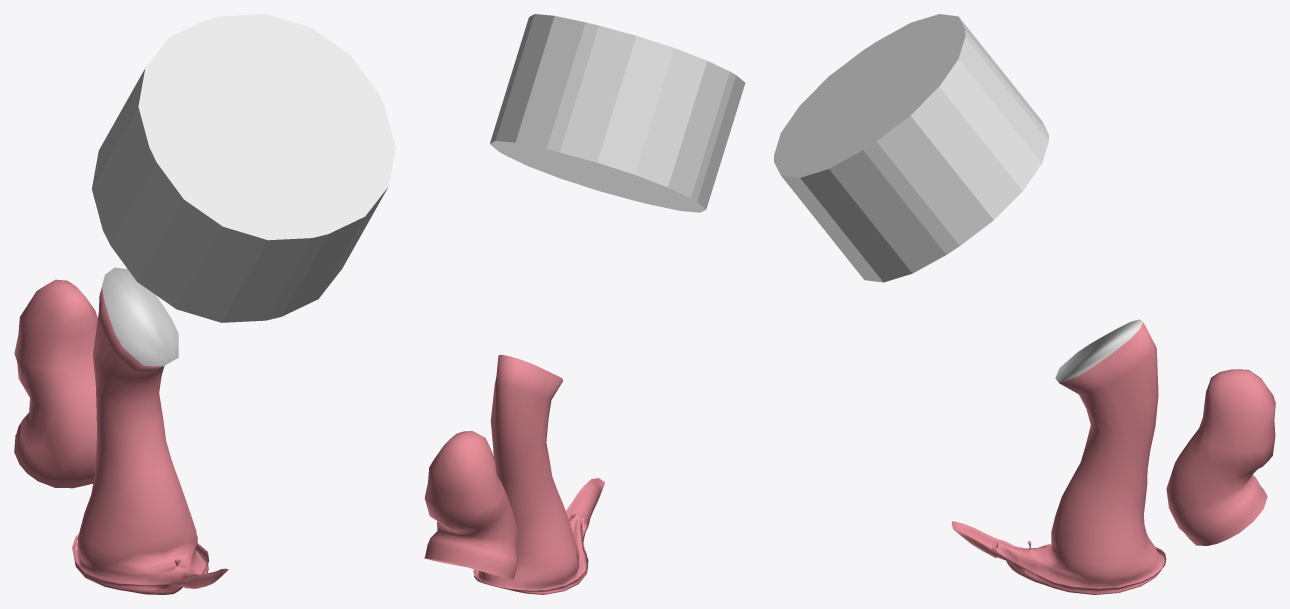
Rendered from PussyVag Substance Painter.fbx.
The picture shows the model from 3 angles, left to right: view 1: azimuth 30°, elevation 25°; view 2: azimuth 150°, elevation 25°; view 3: azimuth 270°, elevation 25°; orthographic projection. The views are drawn at different scales.
Parts seen in each view (by area): view 1: FemaleCrotch Substance Painter; view 2: FemaleCrotch Substance Painter; view 3: FemaleCrotch Substance Painter.
Part boxes in pixels (x1=…): FemaleCrotch Substance Painter: x1=14, y1=14, x2=395, y2=594; FemaleCrotch Substance Painter: x1=424, y1=14, x2=745, y2=594; FemaleCrotch Substance Painter: x1=774, y1=14, x2=1275, y2=594.
Size of the model in its own units: 8.29 by 20.86 by 17.63.
